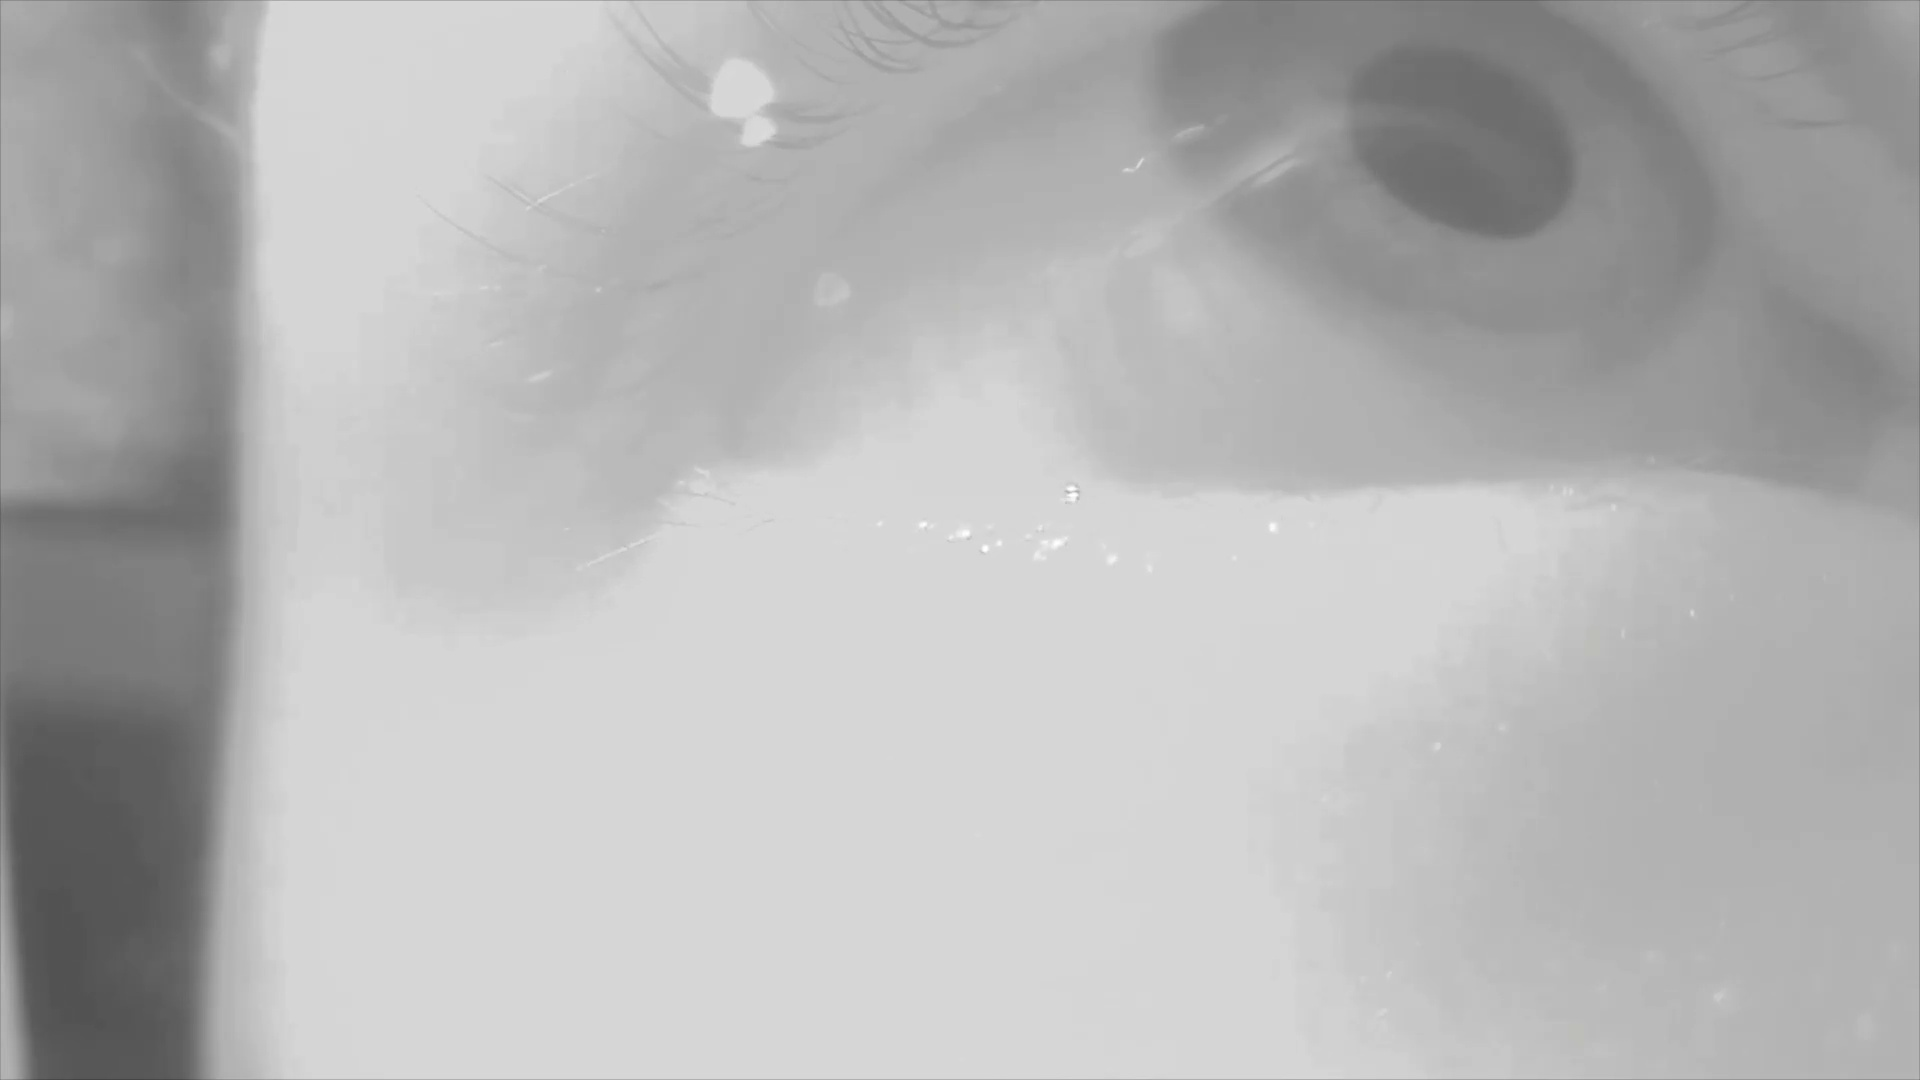pupil: (1353, 44, 1574, 240)
